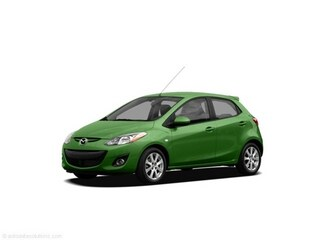Mazda3 Hatchback: (59, 88, 267, 190)
